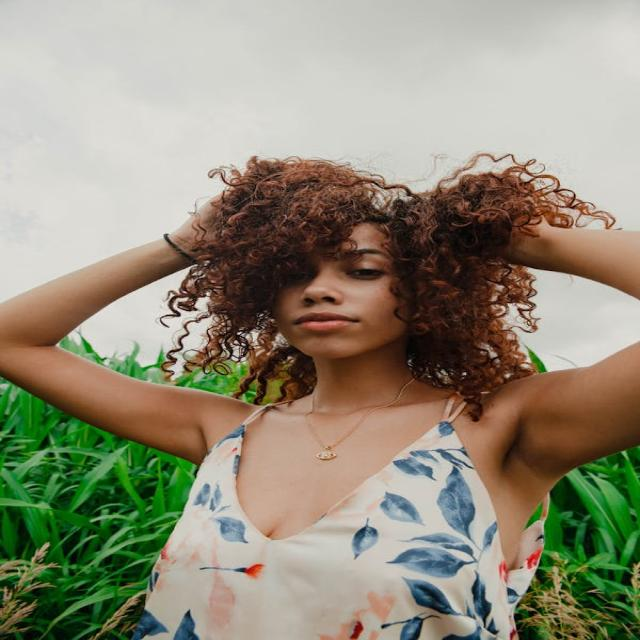Real human 2: (0, 145, 640, 635)
